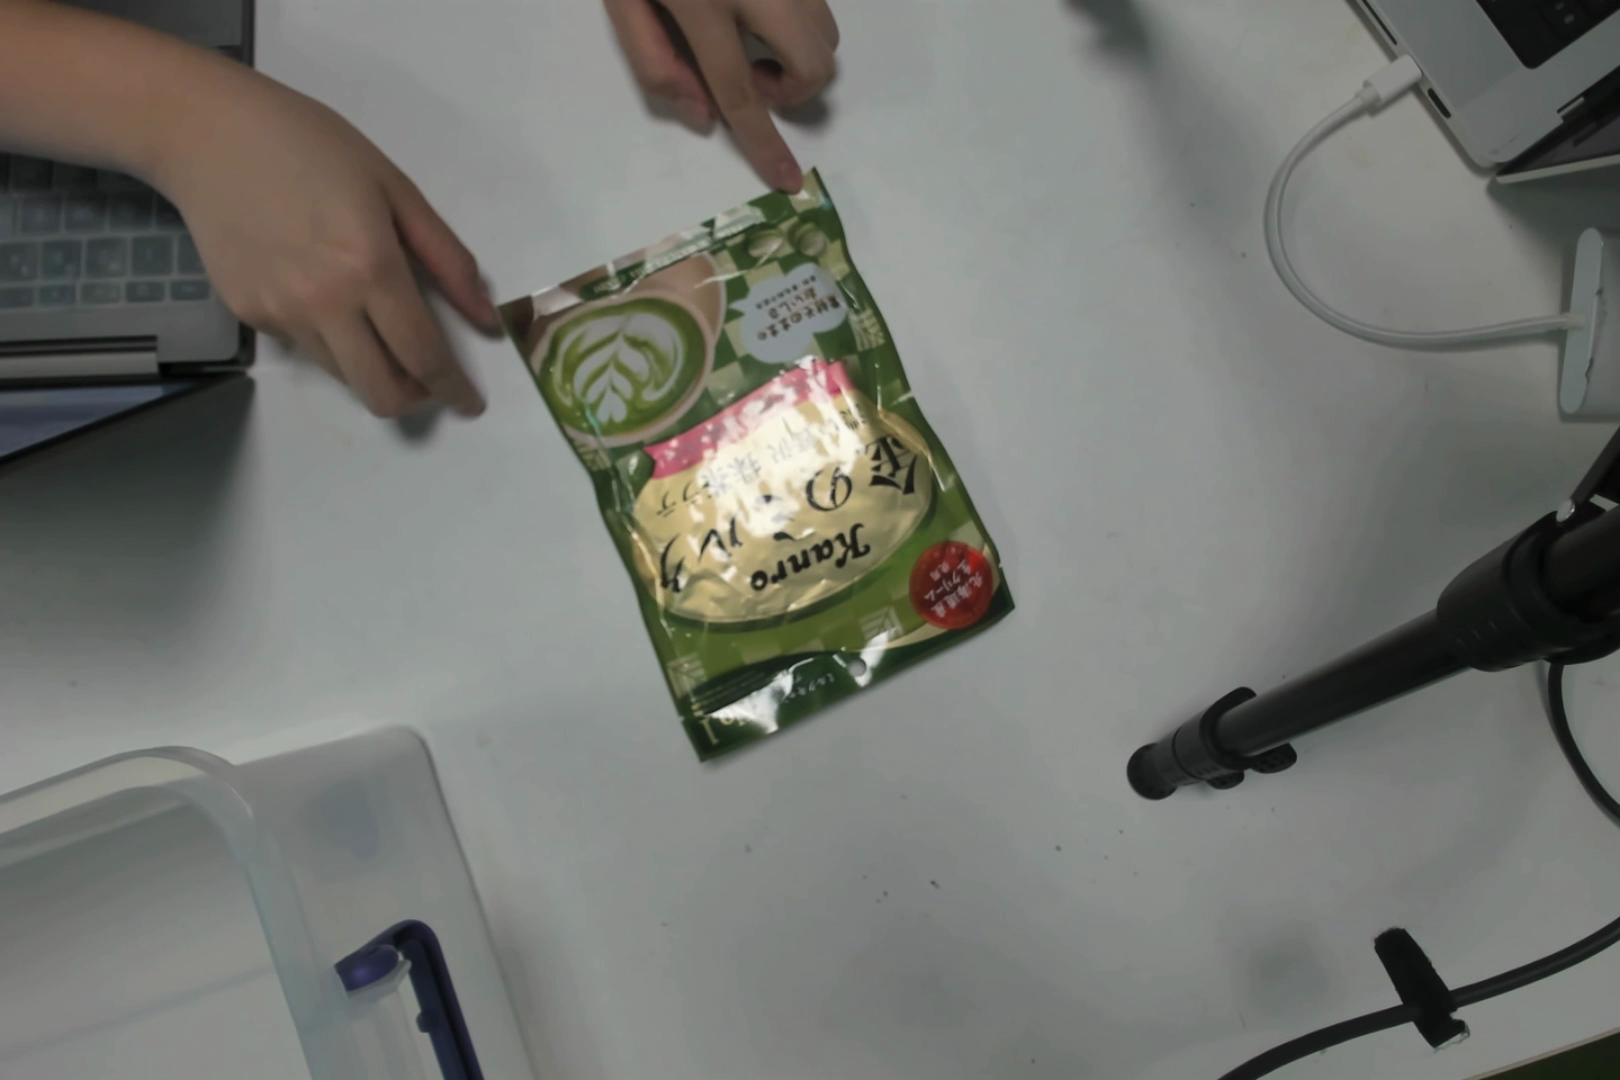SweetsChocolatesOthers_1-99g_NonHalal_NonHealthy: (542, 228, 1009, 722)
